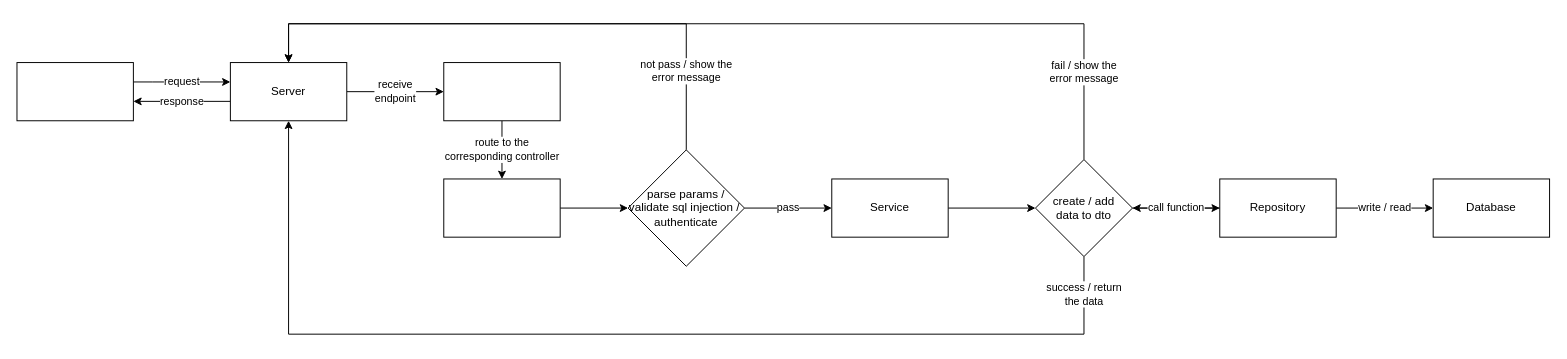
This 1567x359 diagram has some shape labels left out. Here are the shapes that lost their labels. From the top down, the centre of each, then its label:
pixel 74 91: Client
pixel 501 91: Router
pixel 501 207: Controller
